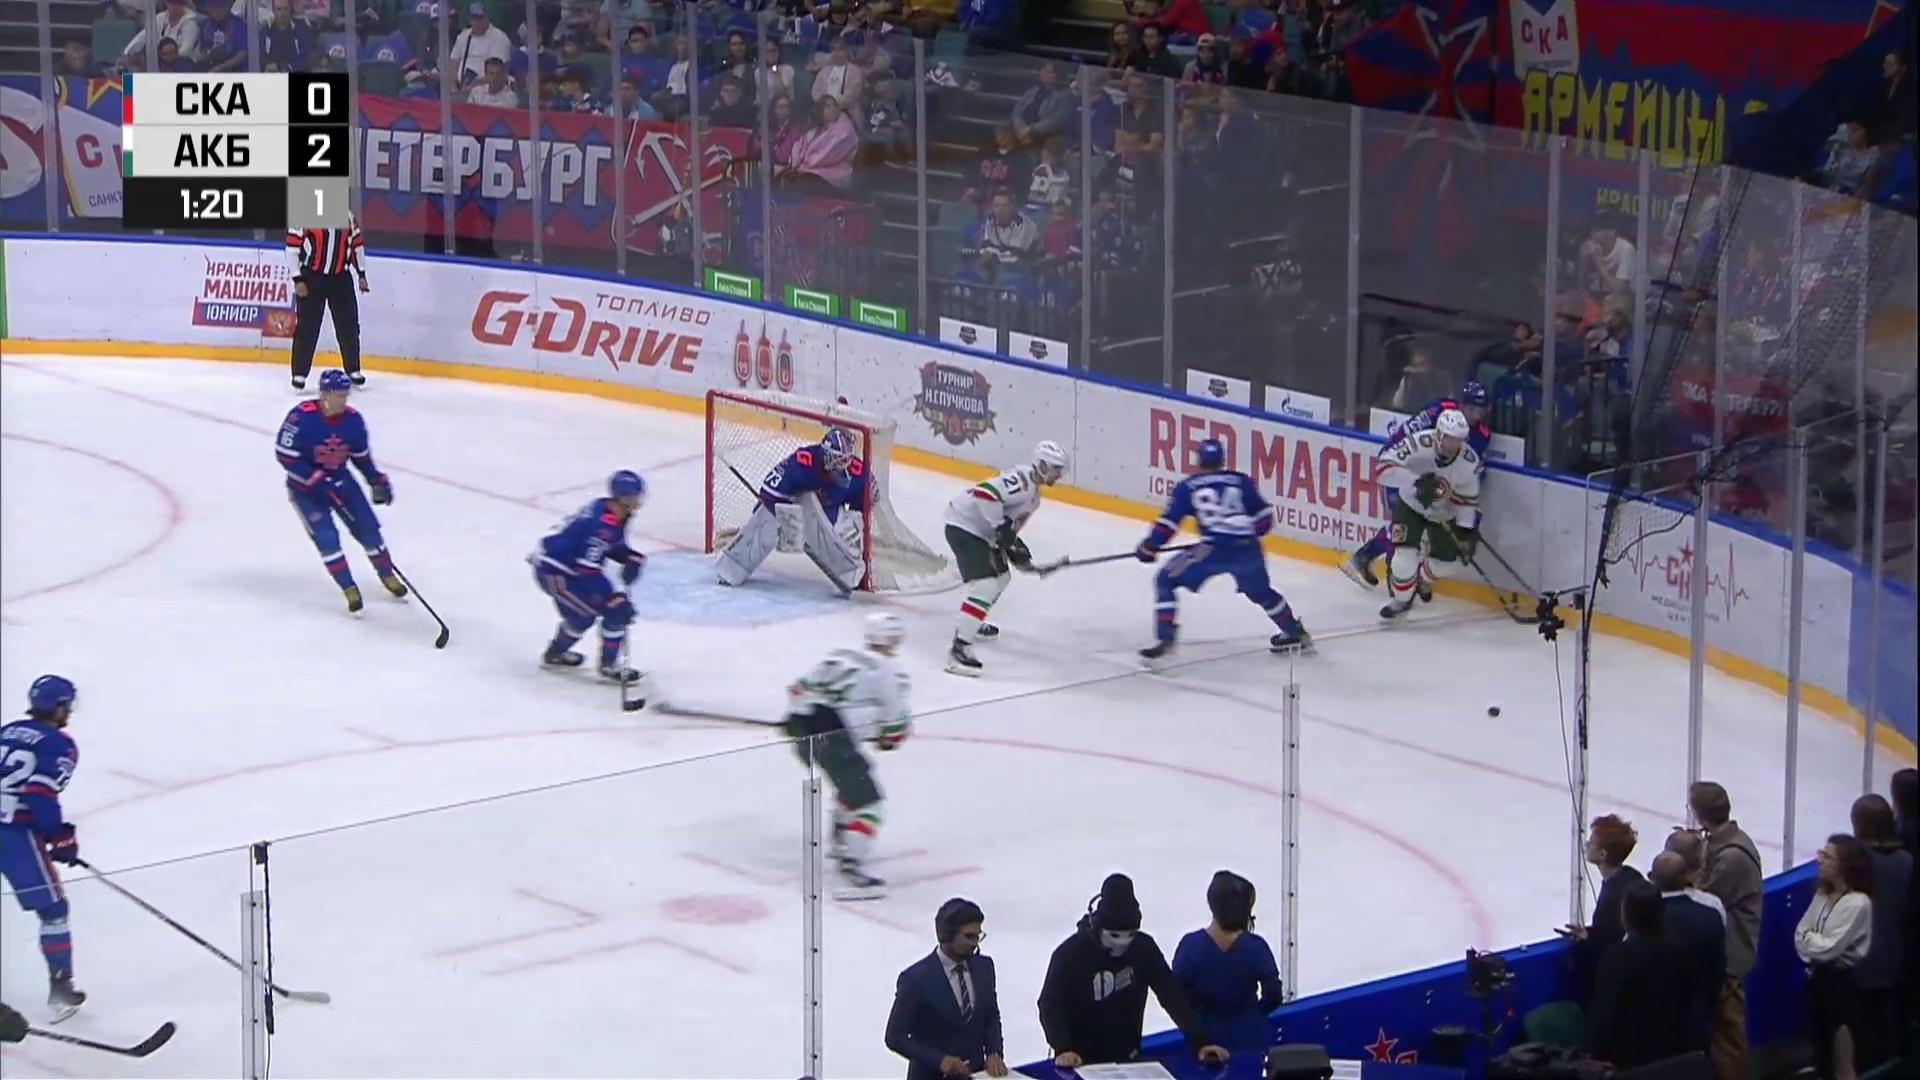ball: (1487, 705, 1499, 719)
